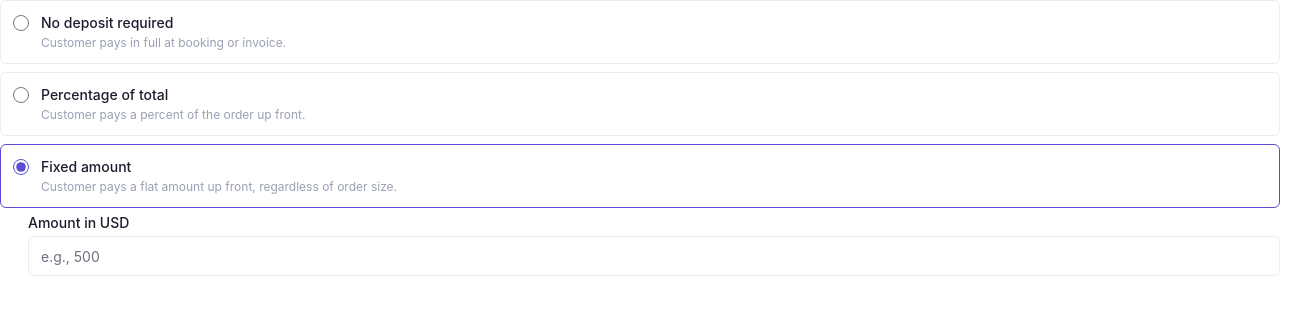
Test case: DepositPolicyEditor — Decision 3 validation › Fixed: rejects 1000000 with inline error
Step 1. Type "1000000" into the field labelled "Amount in USD" → (654, 256), box [28, 236, 1280, 276]
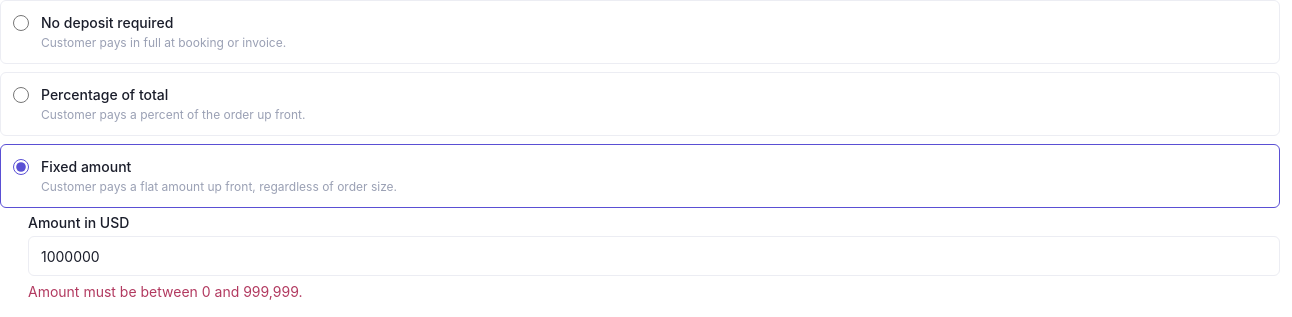
Result: the message shows "0 and 999,999" at [28, 283, 302, 300]
